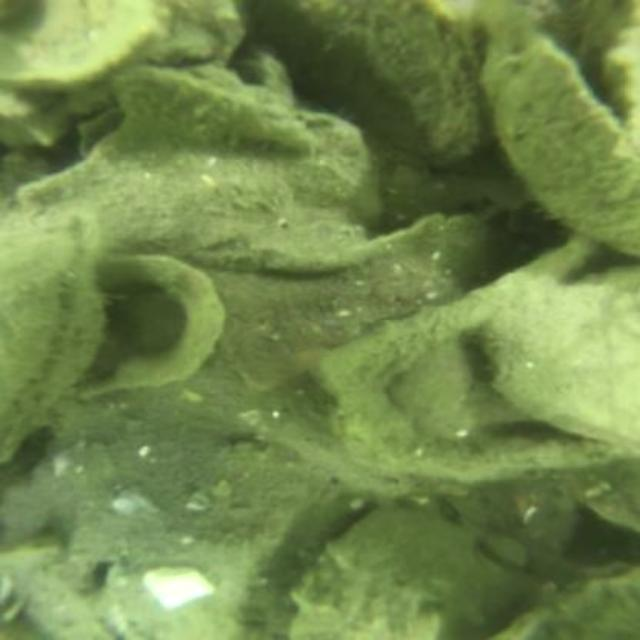Oyster-Closed: (310, 219, 638, 484), (5, 444, 332, 638), (19, 112, 372, 269), (247, 0, 484, 166), (293, 508, 511, 635), (2, 212, 101, 462), (488, 277, 634, 443), (69, 251, 231, 397), (115, 65, 320, 149), (115, 540, 247, 638), (494, 573, 638, 638)
Oyster-Open: (488, 0, 638, 244)
